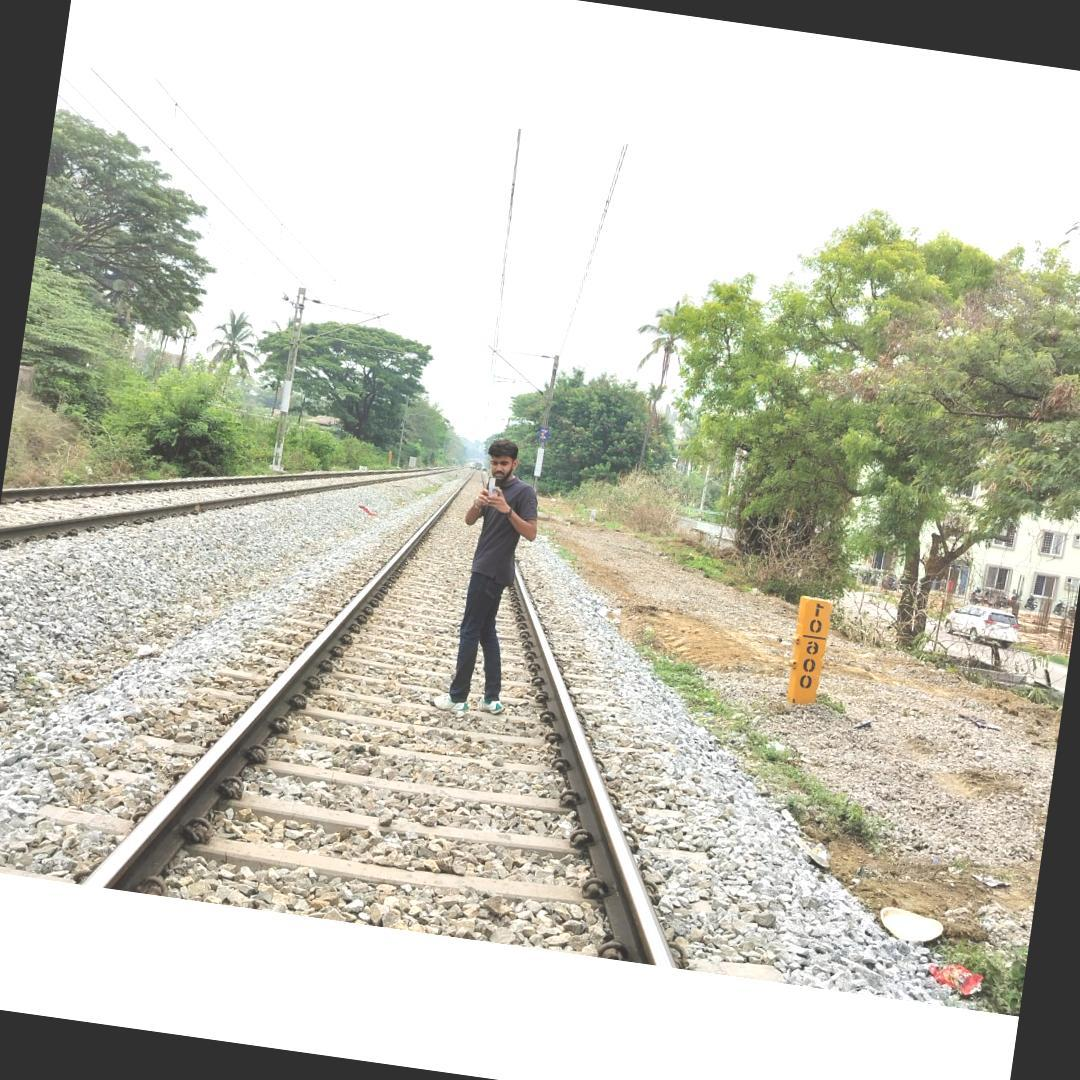standing: (430, 437, 543, 716)
track: (66, 458, 696, 968)
